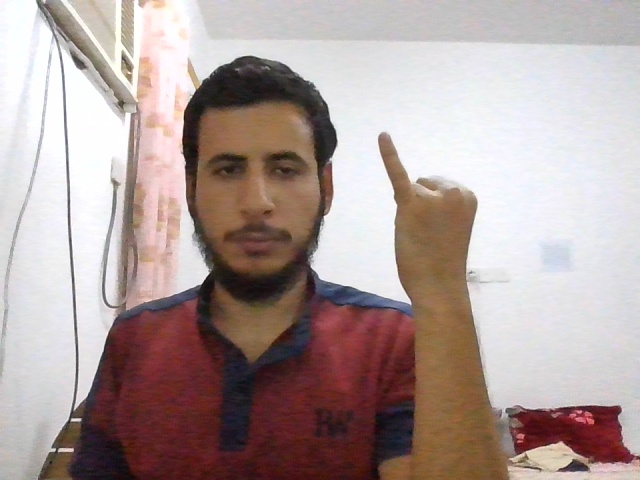One: (377, 131, 479, 288)
